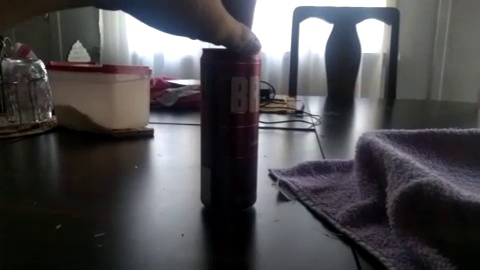duplo_malte: (189, 35, 270, 224)
